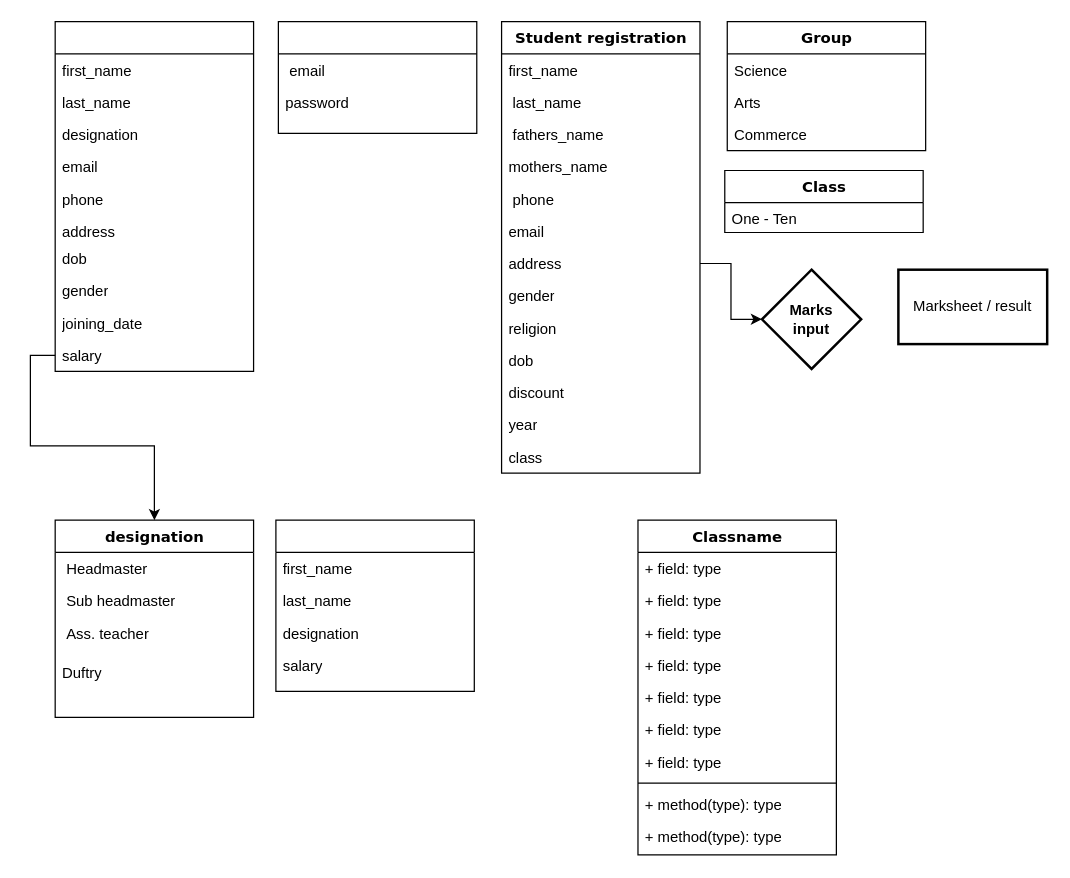
Image size: 1070x878. Some labels were removed from this diagram. Here are the shapes that lost their labels. From the top down, the box of each, then its label:
(277, 20, 477, 133): admin
(54, 20, 254, 371): teacher registration
(275, 519, 474, 691): Employee
